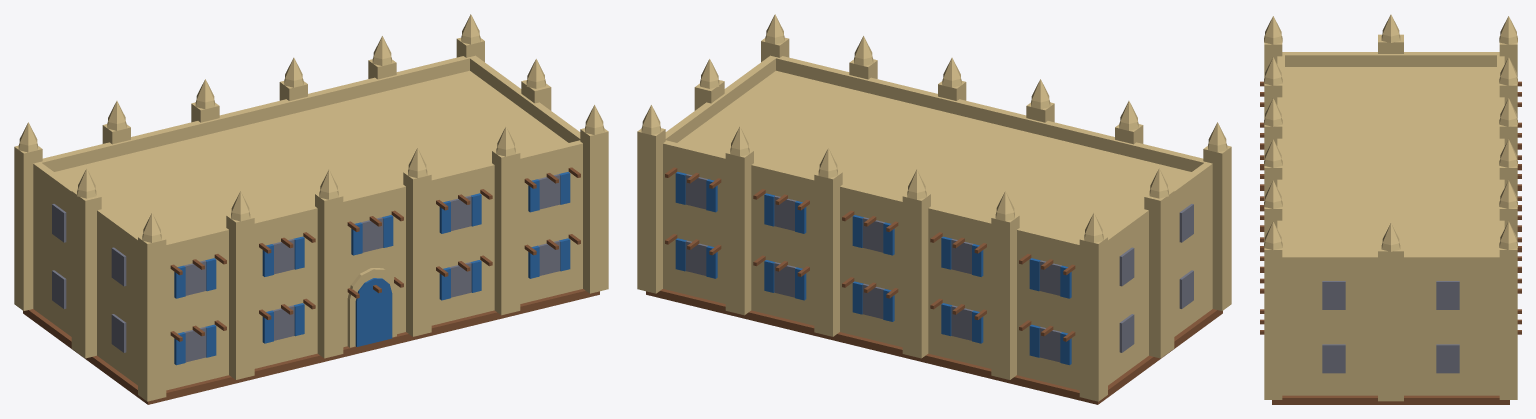
File: house-2x1-2f-banco-a.glb
3 renders of one model, left to right at view 1: azimuth 30°, elevation 25°; view 2: azimuth 150°, elevation 25°; view 3: azimuth 270°, elevation 25°, orthographic. The views are drawn at different scales.
Visible parts, largest first — view 1: house-2x1-2f-banco-a; view 2: house-2x1-2f-banco-a; view 3: house-2x1-2f-banco-a.
Boxes of the visible parts, x1=… form: house-2x1-2f-banco-a: x1=14, y1=14, x2=608, y2=404; house-2x1-2f-banco-a: x1=637, y1=14, x2=1231, y2=404; house-2x1-2f-banco-a: x1=1260, y1=14, x2=1521, y2=404.
Size of the model in its own units: 1.99 by 0.775 by 1.01.
Materials: 1 (1 with a texture image).
